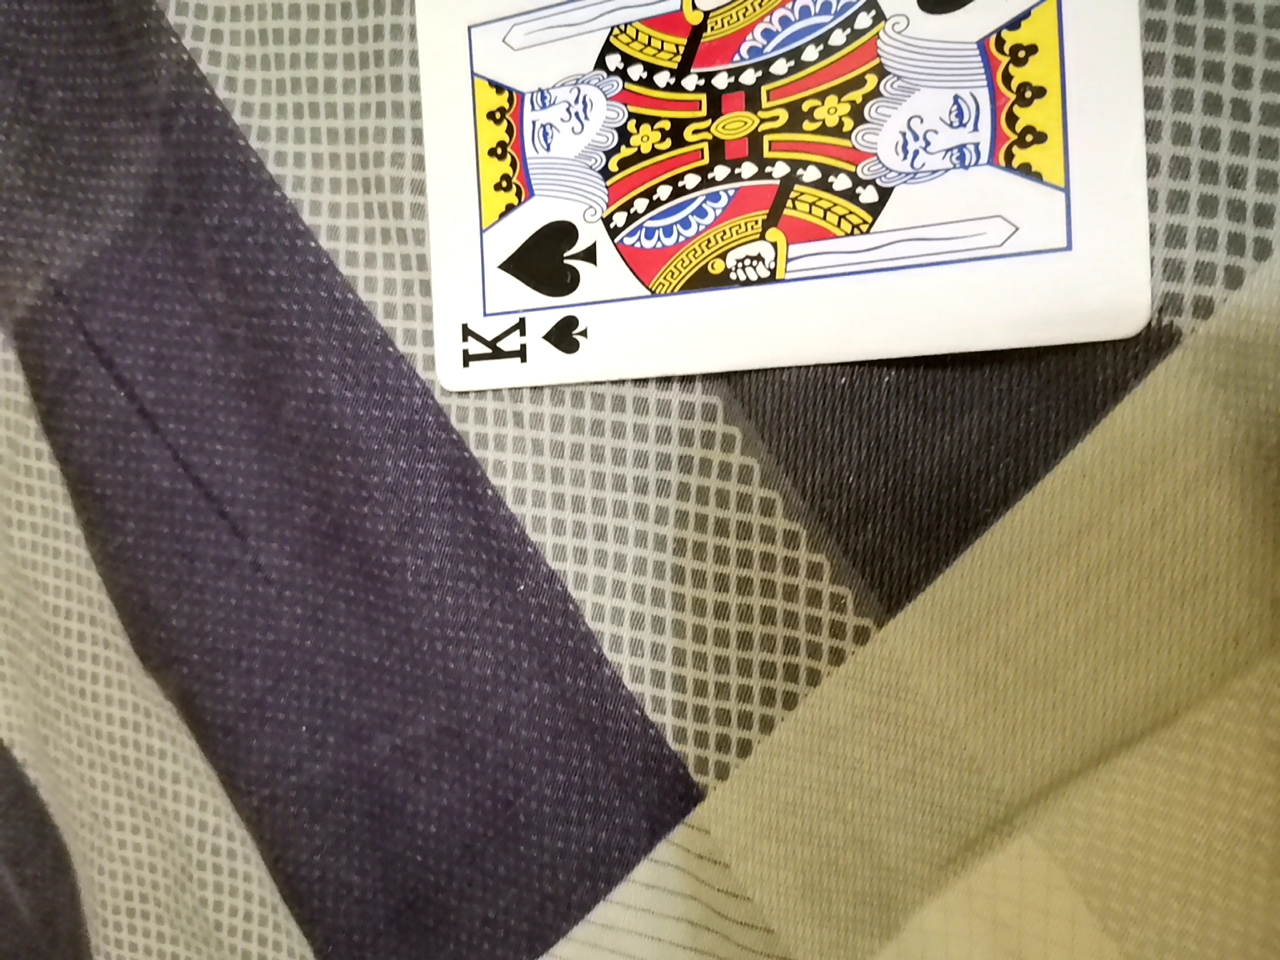ht k: (384, 5, 1164, 406)
